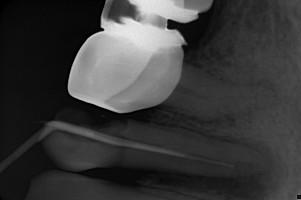Dental Caries: (139, 136, 287, 199)
Furcation Involvement: (247, 77, 278, 100)
